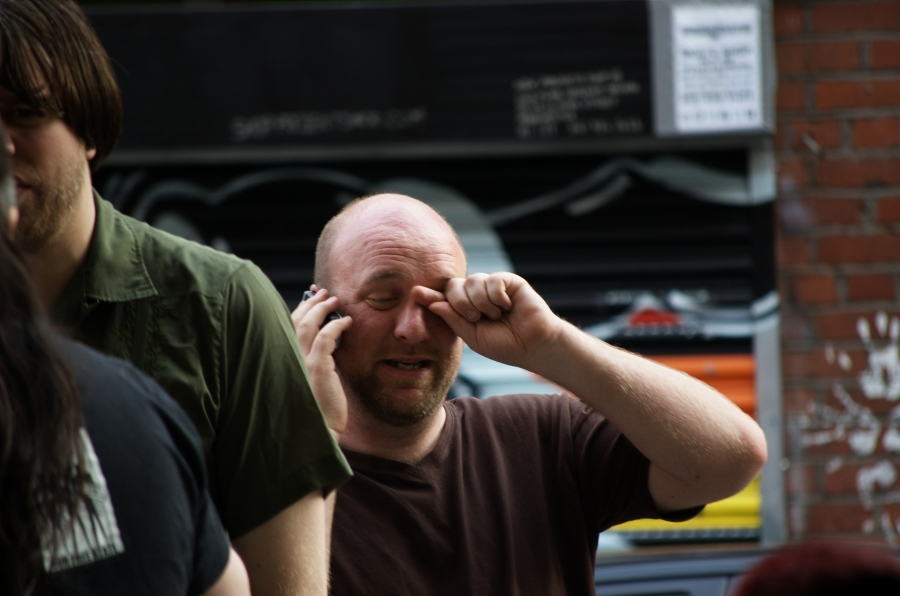phone: (277, 287, 359, 345)
talk: (288, 268, 467, 425)
